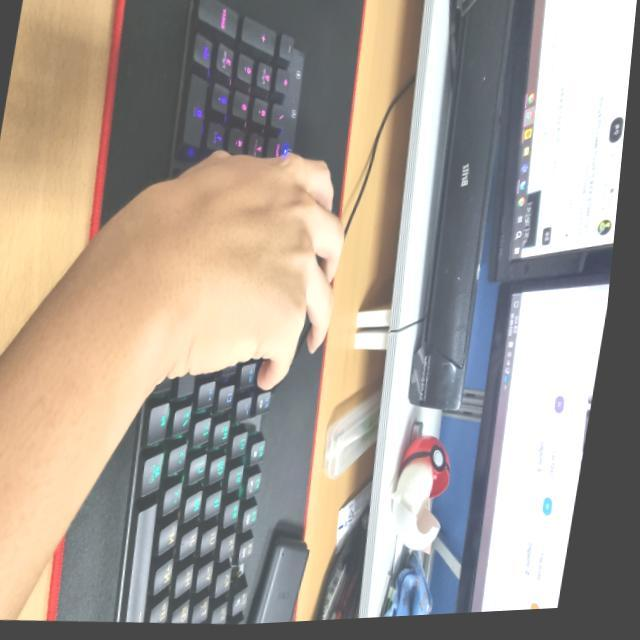keyboard-with-hands: (115, 0, 309, 625)
